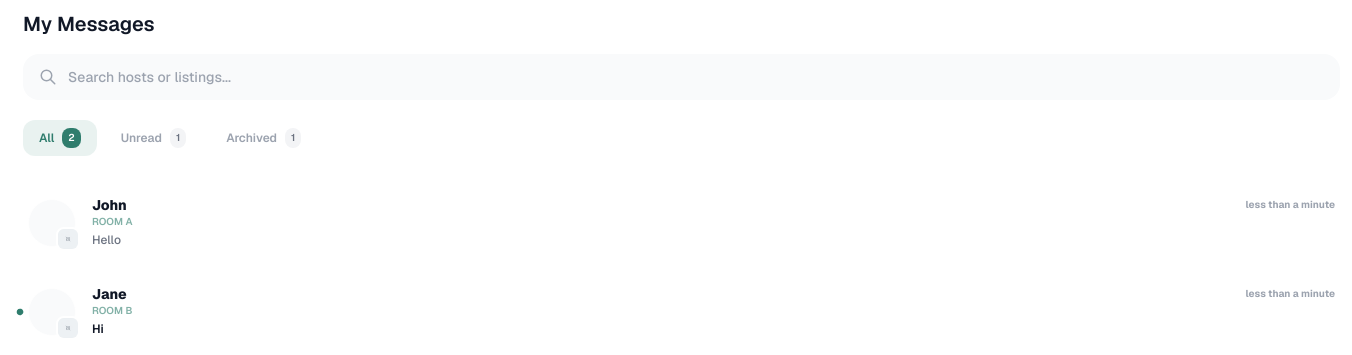
Test: ConversationsList › filters by status tabs
Click the button "Unread 1" at point(153, 138), box 105,120 -> 202,156
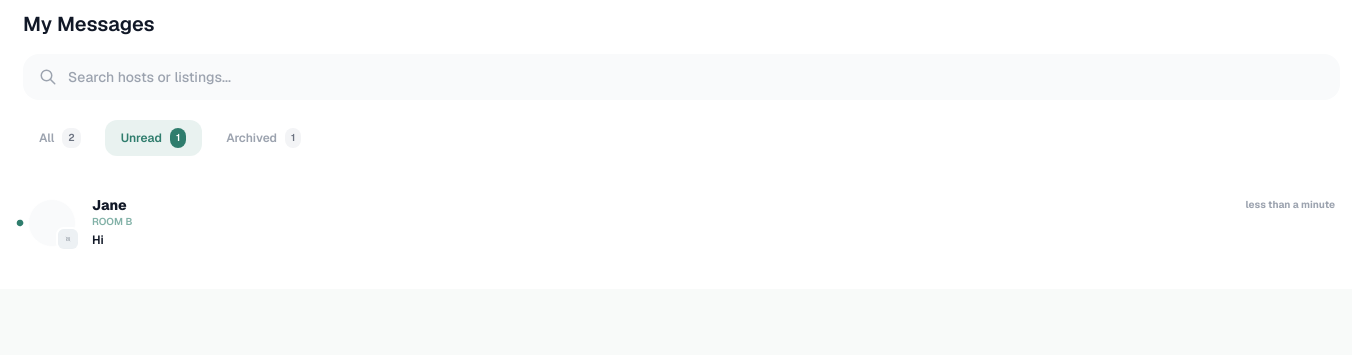
Check: the heading "Jane" is shown, box 92,198 -> 127,212
Check: the button "John" is gone
Click the button "Archived 1" at point(264, 138), box 210,120 -> 317,156
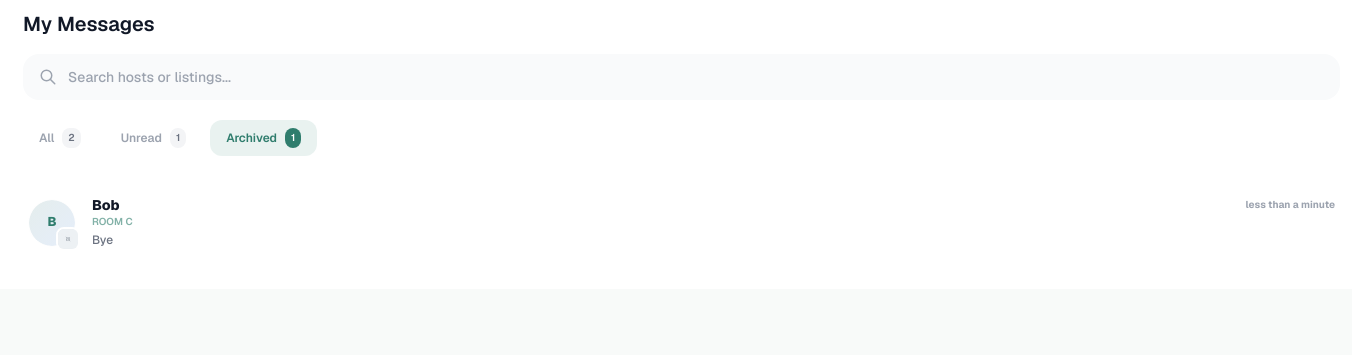
Check: the heading "Bob" is shown, box 92,198 -> 120,212
Check: the button "Jane" is gone
